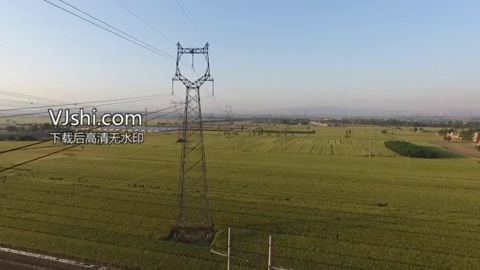tower_body: (161, 37, 220, 230)
tower_foot: (175, 179, 207, 227)
tower_head: (166, 40, 217, 93)
